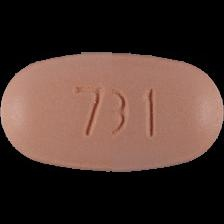0093-7474: (0, 0, 224, 224)
